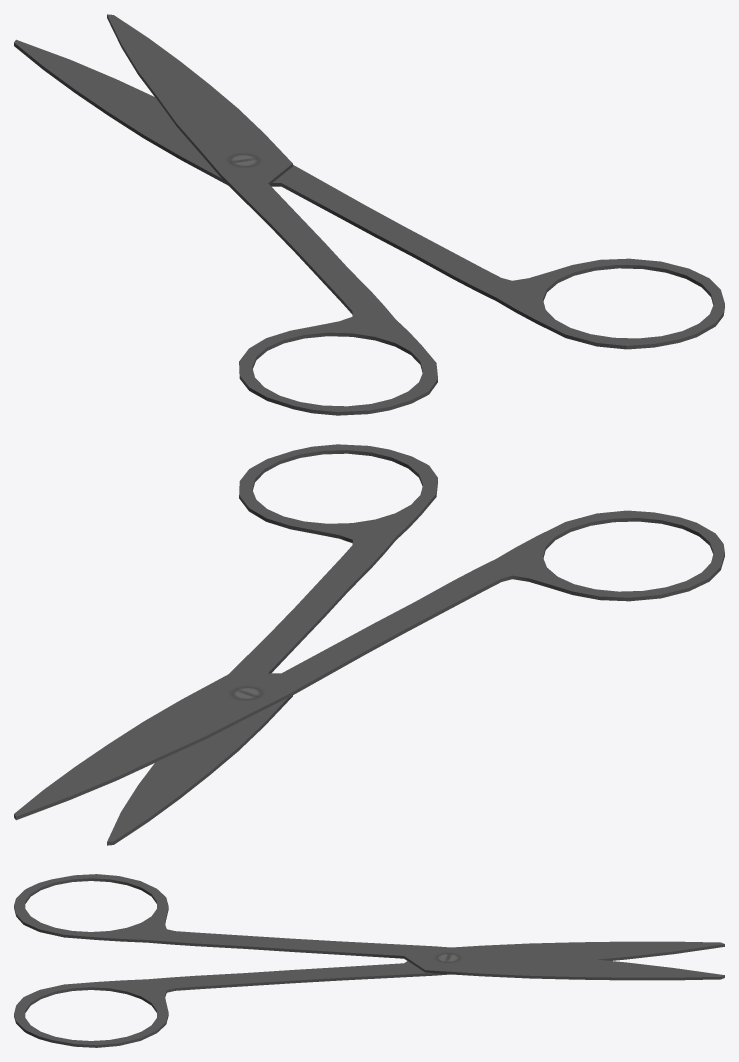
The model's file is scissor.FBX.
3 views of the same model, one above another, from view 1: azimuth 30°, elevation 25°; view 2: azimuth 150°, elevation 25°; view 3: azimuth 270°, elevation 25° (orthographic). The views are drawn at different scales.
Parts seen in each view (by area): view 1: scissor; view 2: scissor; view 3: scissor.
Boxes of the visible parts, x1,y1,x2,y2 form: scissor: (14, 14, 724, 415); scissor: (14, 444, 724, 845); scissor: (14, 874, 724, 1047).
Size of the model in its own units: 7.22 by 12.86 by 0.1003.
